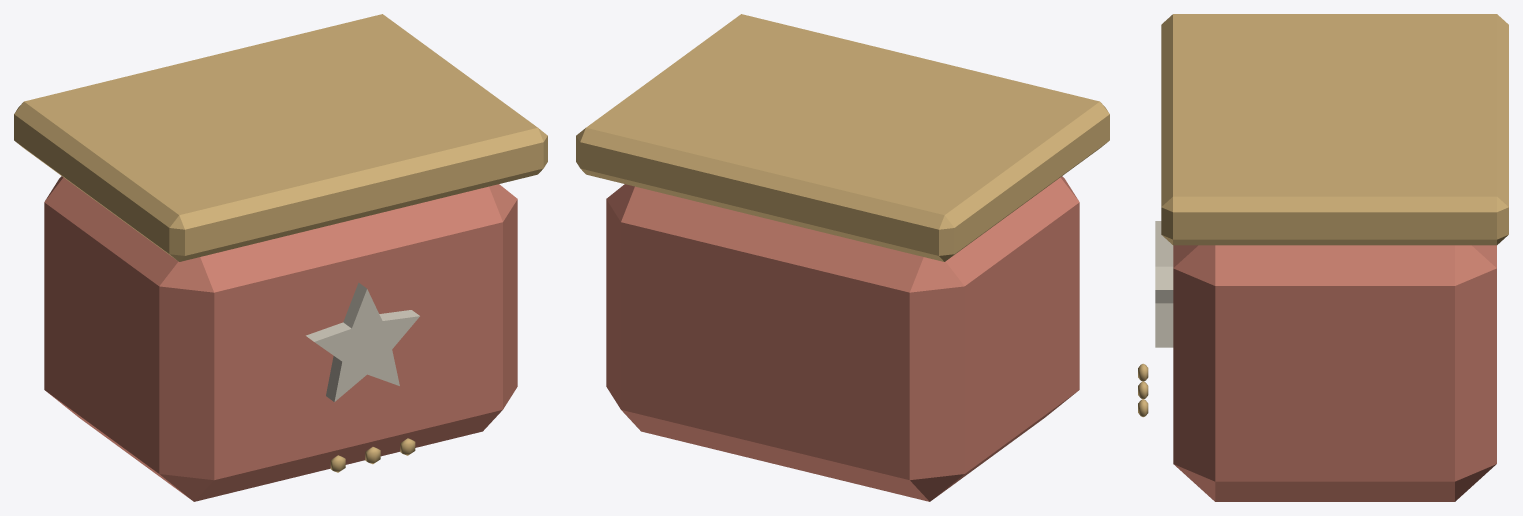
The picture shows the model from 3 angles, left to right: view 1: azimuth 30°, elevation 25°; view 2: azimuth 150°, elevation 25°; view 3: azimuth 270°, elevation 25°; orthographic projection. The views are drawn at different scales.
Visible parts, largest first — view 1: st09; view 2: st09; view 3: st09.
Part boxes in pixels (<box>): st09: <box>14,14,547,501</box>; st09: <box>576,14,1109,501</box>; st09: <box>1138,14,1508,501</box>.
Size of the model in its own units: 0.38 by 0.2975 by 0.3093.
